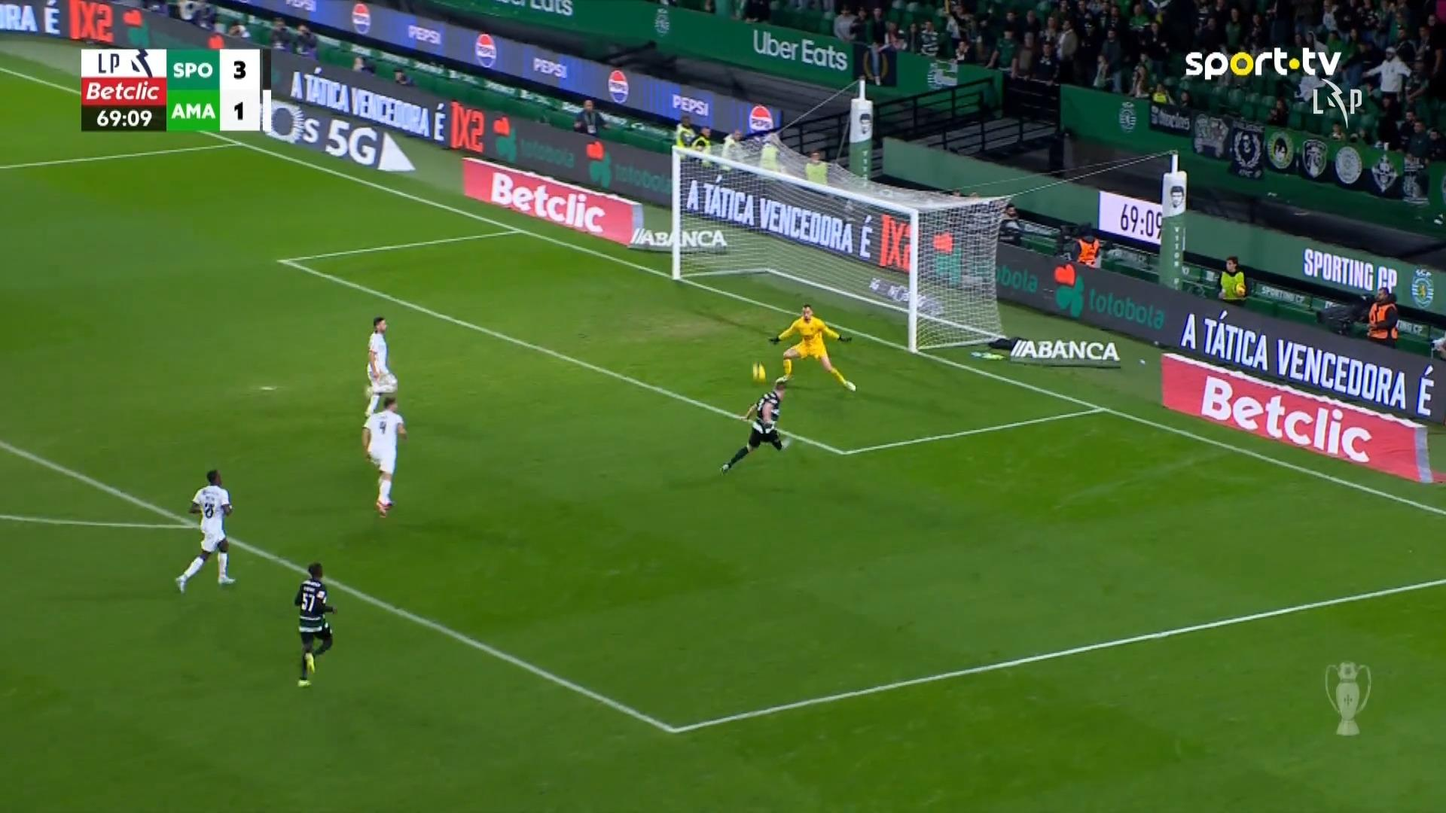ball: (751, 361, 765, 382)
goalkeeper: (768, 303, 857, 392)
player: (174, 468, 236, 593), (719, 376, 791, 474), (360, 394, 407, 518), (293, 561, 337, 687), (362, 315, 398, 418)
